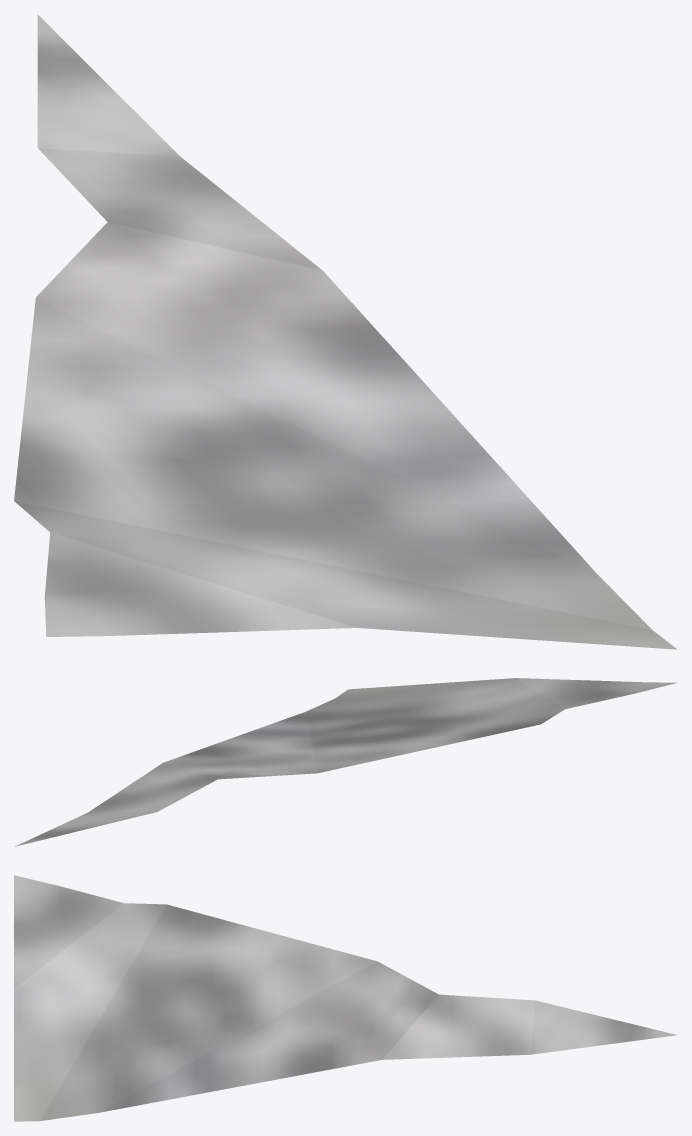
3 views of the same model, one above another, from view 1: azimuth 30°, elevation 25°; view 2: azimuth 150°, elevation 25°; view 3: azimuth 270°, elevation 25° (orthographic). The views are drawn at different scales.
Size of the model in its own units: 0.0888 by 0.0224 by 0.1559.
1 material, 1 textured.
